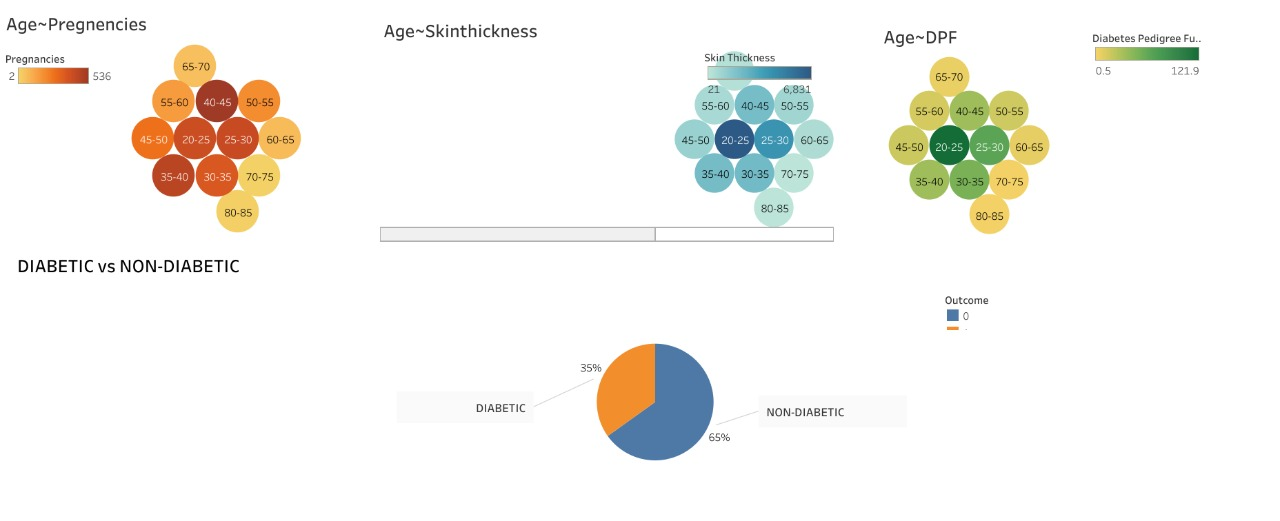

This screenshot's page, from the dashboard's own definition file:
{"tool":"tableau","page":{"name":"pie chart and bubble charts","canvas":[1000,1000],"units":"permille","ordinal":0},"visuals":[{"type":"worksheet","title":"age~pregnencies bubblechart","mark":"Circle","box":[1.9,11.9,333.1,434]},{"type":"worksheet","title":"Age ~ST bubblechart","mark":"Circle","box":[296.6,25,354.2,438.8]},{"type":"worksheet","title":"Age~DPF(Bubblechart)","mark":"Circle","param":"[federated.00q57va1upa6o9137wtnt0jziaud].[sum:DiabetesPedigreeFunction:qk]","box":[852.6,51.1,86.7,104.6]},{"type":"worksheet","title":"Age ~ST bubblechart","mark":"Circle","param":"[federated.00q57va1upa6o9137wtnt0jziaud].[sum:SkinThickness:qk]","box":[549.9,86.8,86.7,104.6]},{"type":"worksheet","title":"age~pregnencies bubblechart","mark":"Circle","param":"[federated.00q57va1upa6o9137wtnt0jziaud].[sum:Pregnancies:qk]","box":[3.7,90.4,86.7,104.6]},{"type":"worksheet","title":"DIABETIC vs NON-DIABETIC","mark":"Pie","param":"[federated.00q57va1upa6o9137wtnt0jziaud].[none:Outcome:ok]","box":[736.7,556.5,86.7,76.1]}]}

Visuals, with their boxes on the dashboard's canvas, which has no fixed pixel size, in thousandths of its width and height (x1, y1, x2, y2). These are canvas units, not pixel positions in the 1280x521 screenshot, which may show the page scaled, cropped or inside an application window:
"age~pregnencies bubblechart" worksheet (Circle marks): [2,12,335,446]
"Age ~ST bubblechart" worksheet (Circle marks): [297,25,651,464]
"Age~DPF(Bubblechart)" worksheet (Circle marks): [853,51,939,156]
"Age ~ST bubblechart" worksheet (Circle marks): [550,87,637,191]
"age~pregnencies bubblechart" worksheet (Circle marks): [4,90,90,195]
"DIABETIC vs NON-DIABETIC" worksheet (Pie marks): [737,556,823,633]
